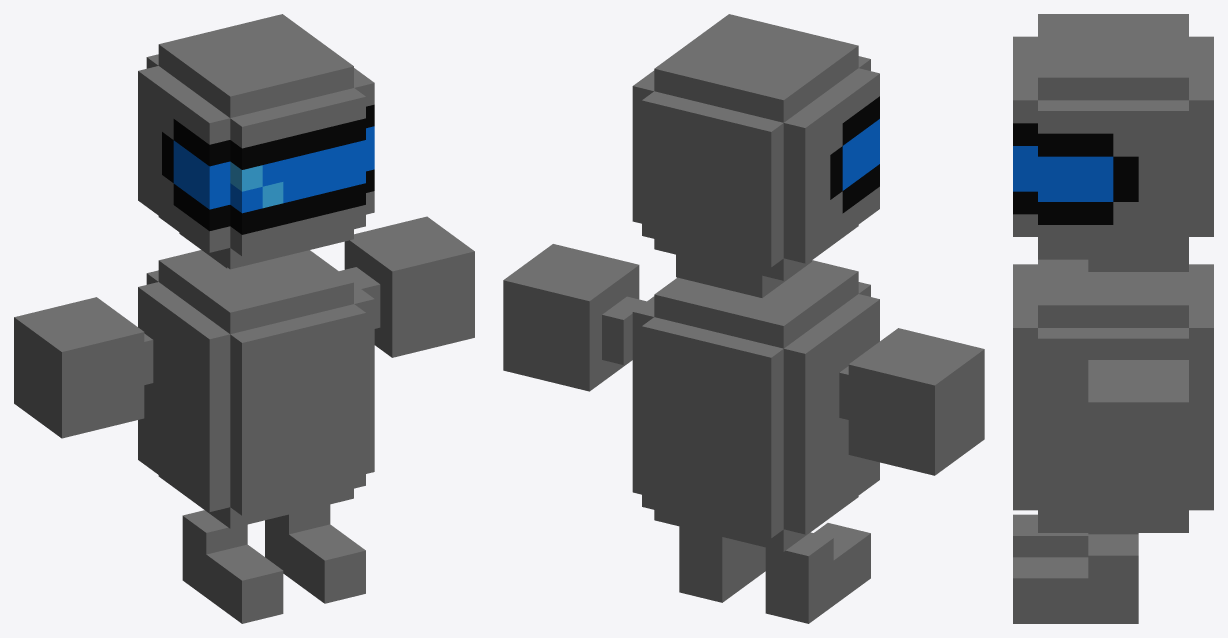
File: player.fbx
The picture shows the model from 3 angles, left to right: view 1: azimuth 30°, elevation 25°; view 2: azimuth 150°, elevation 25°; view 3: azimuth 270°, elevation 25°; orthographic projection. The views are drawn at different scales.
Visible parts, largest first — view 1: body, head, arm2, arm1, fut1, fut2; view 2: body, head, arm2, arm1, fut1, fut2; view 3: head, body, arm1, fut2, fut1.
Boxes of the visible parts, x1,y1,x2,y2 form: body: (138, 250, 374, 528); head: (138, 14, 374, 269); arm2: (14, 297, 153, 438); arm1: (339, 216, 474, 357); fut1: (182, 510, 283, 623); fut2: (265, 504, 365, 603); body: (632, 260, 879, 551); head: (632, 14, 879, 297); arm2: (839, 328, 984, 475); arm1: (503, 244, 646, 391); fut1: (765, 523, 870, 623); fut2: (679, 526, 765, 602); head: (1013, 14, 1213, 271); body: (1013, 259, 1213, 532); arm1: (1088, 360, 1188, 493); fut2: (1013, 534, 1138, 623); fut1: (1013, 514, 1138, 557).
Size of the model in its own units: 20 by 24 by 8.
Materials: 1 (1 with a texture image).
